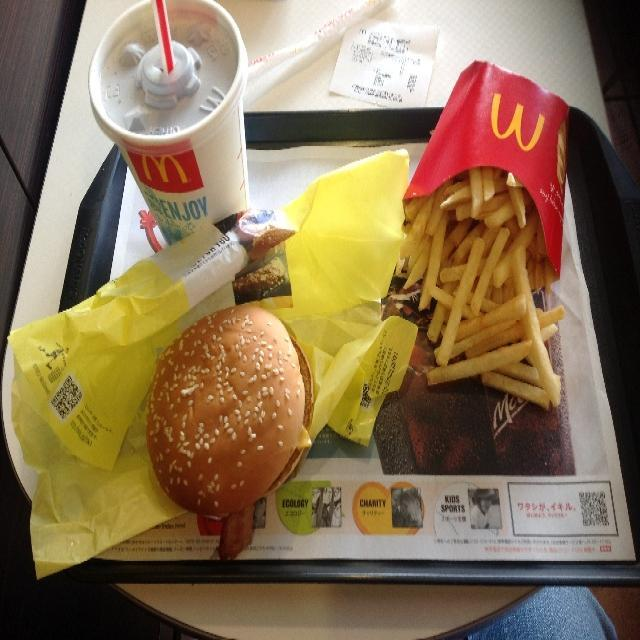French Fries: (400, 167, 564, 410)
Hamburger: (149, 305, 313, 523)
